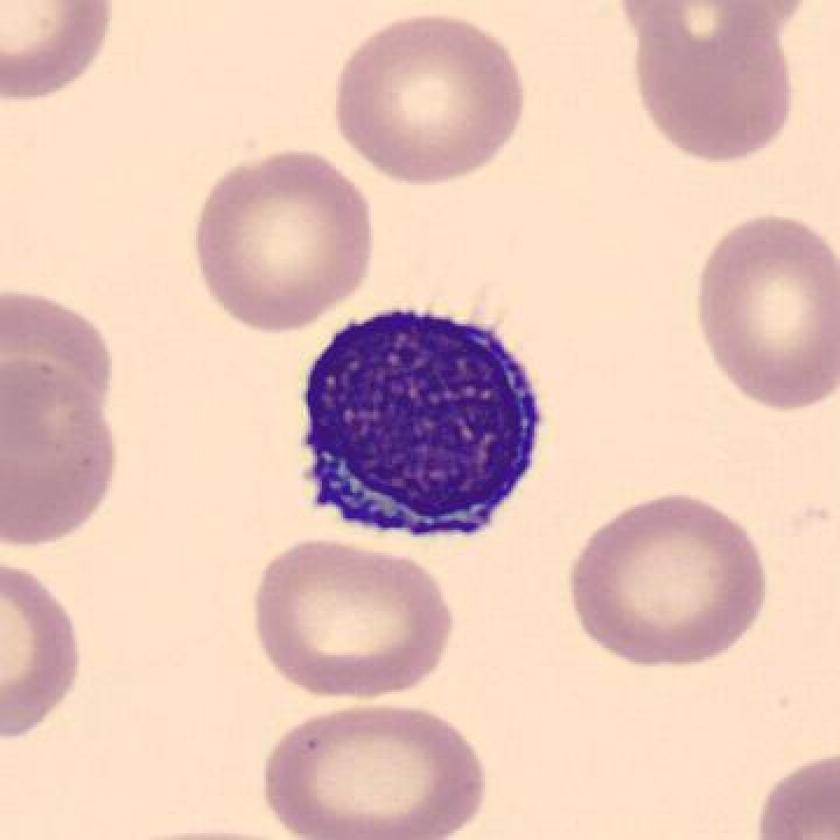lymphocyte: (283, 293, 559, 561)
